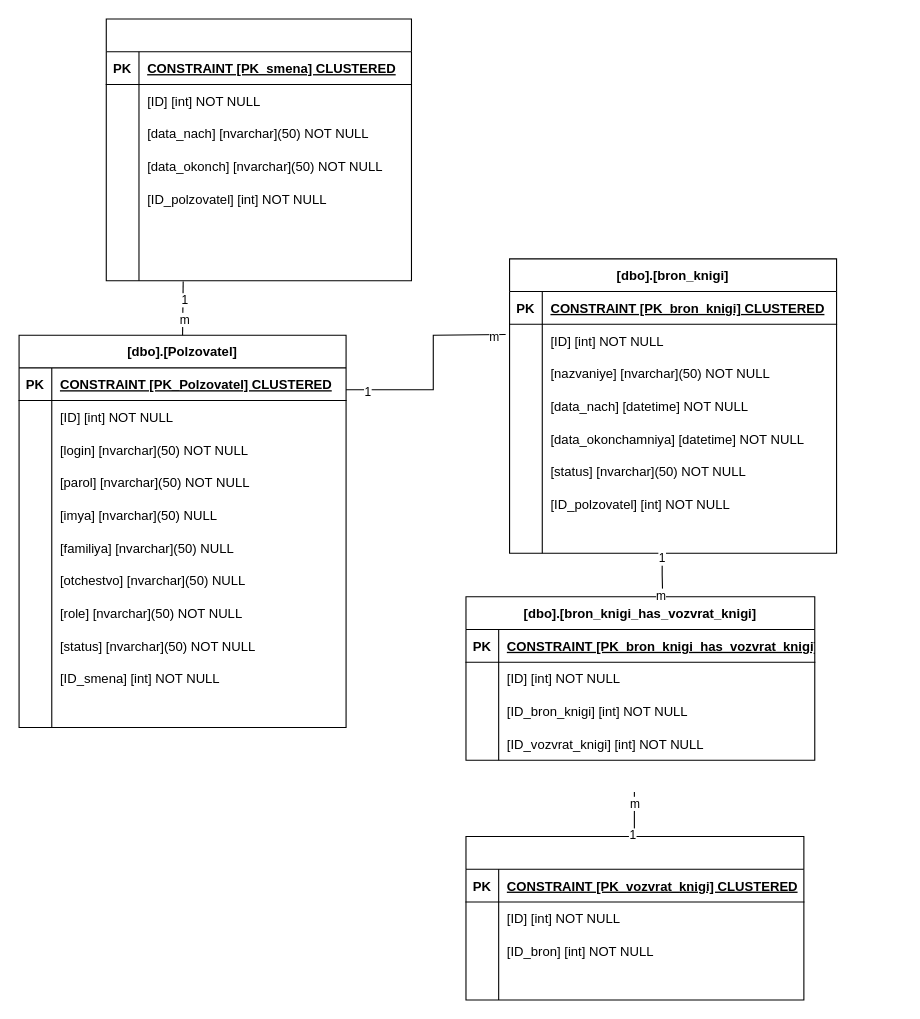
Some shapes in this 920 by 1019 pixel diagram are drawn without their labels. Here are the shapes that lost their labels. From the top down, the box of each, then its label:
(105, 18, 411, 281): [dbo].[smena]
(465, 835, 804, 1000): [dbo].[vozvrat_knigi]
